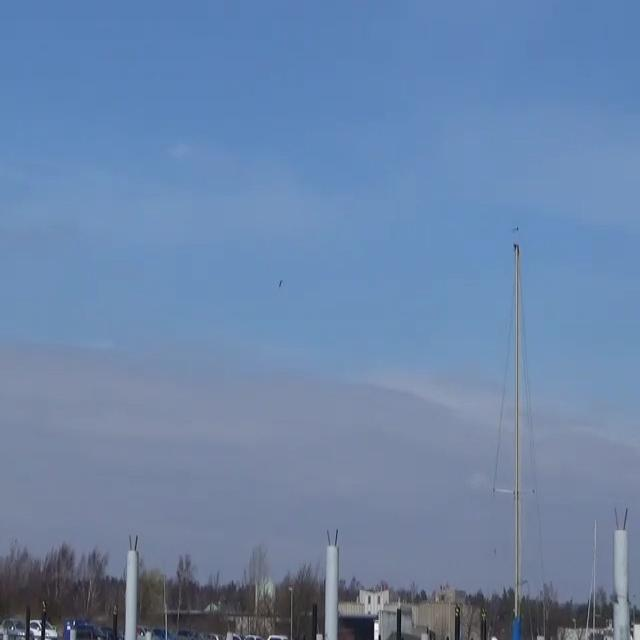bird: (276, 278, 283, 288)
